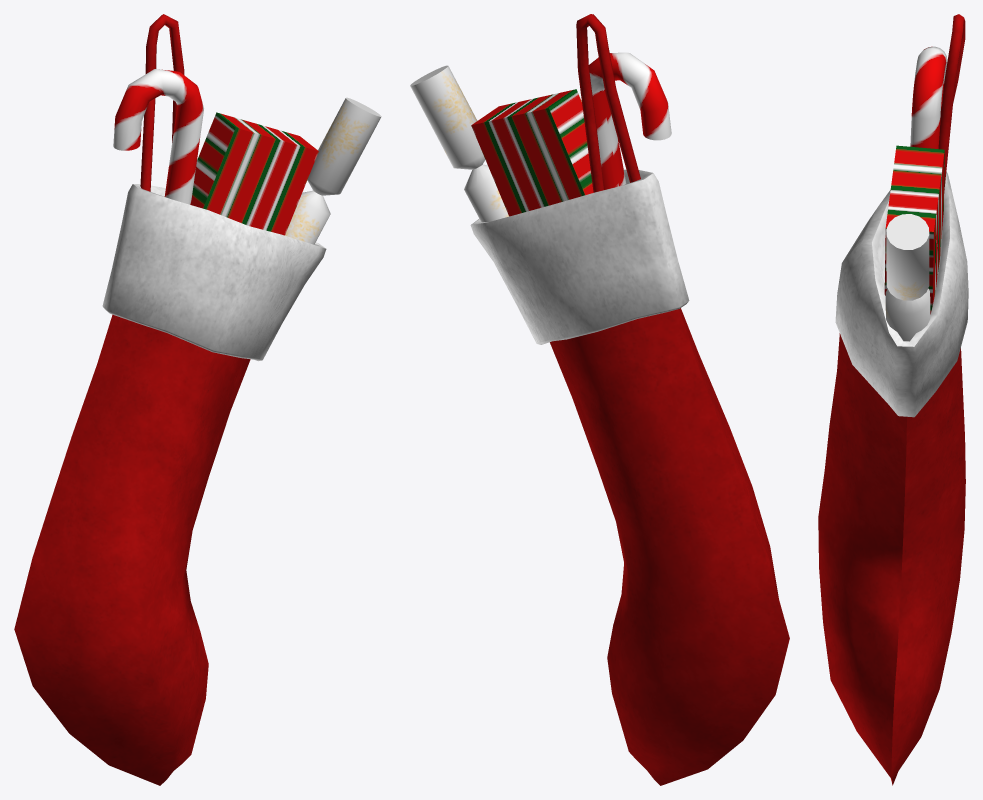
Rendered from christmas_stocking_01.fbx.
The picture shows the model from 3 angles, left to right: view 1: azimuth 30°, elevation 25°; view 2: azimuth 150°, elevation 25°; view 3: azimuth 270°, elevation 25°; orthographic projection. The views are drawn at different scales.
Parts seen in each view (by area): view 1: xmas_stocking_01; view 2: xmas_stocking_01; view 3: xmas_stocking_01.
Boxes of the visible parts, box(x1,y1,x2,y2) form: xmas_stocking_01: box(14, 14, 381, 785); xmas_stocking_01: box(410, 14, 789, 785); xmas_stocking_01: box(818, 14, 968, 785).
Size of the model in its own units: 64.03 by 126 by 21.78.
